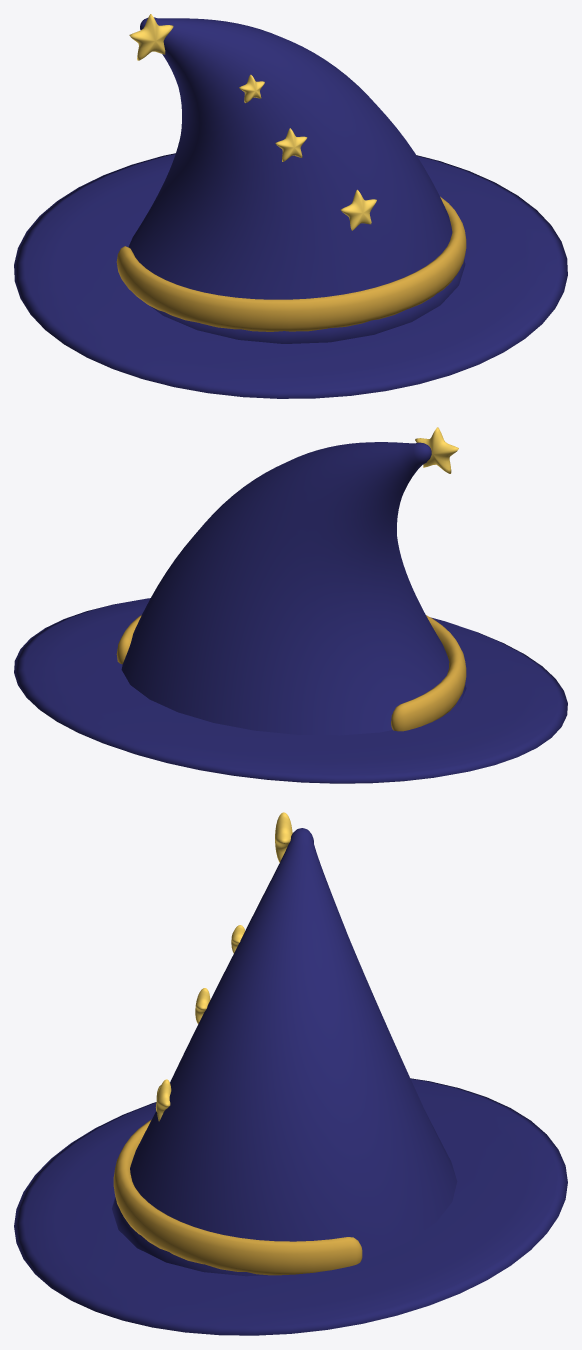
Rendered from wizard-hat.glb.
3 renders of one model, top to bottom at view 1: azimuth 30°, elevation 25°; view 2: azimuth 150°, elevation 25°; view 3: azimuth 270°, elevation 25°, orthographic. The views are drawn at different scales.
Parts seen in each view (by area): view 1: wizard_cone, wizard_brim, wizard_band, wizard_tip_star, wizard_star_0, wizard_star_1; view 2: wizard_cone, wizard_brim, wizard_band, wizard_tip_star; view 3: wizard_cone, wizard_brim, wizard_band.
Boxes of the visible parts, <box> form: wizard_cone: <box>128,17,465,343</box>; wizard_brim: <box>14,153,567,398</box>; wizard_band: <box>116,196,466,331</box>; wizard_tip_star: <box>129,14,173,60</box>; wizard_star_0: <box>340,189,376,230</box>; wizard_star_1: <box>275,128,307,161</box>; wizard_cone: <box>121,442,466,735</box>; wizard_brim: <box>14,598,567,783</box>; wizard_band: <box>116,615,466,731</box>; wizard_tip_star: <box>415,427,458,473</box>; wizard_cone: <box>112,828,457,1276</box>; wizard_brim: <box>14,1078,567,1335</box>; wizard_band: <box>113,1119,362,1275</box>.
Size of the model in its own units: 1.72 by 1.06 by 1.55.
